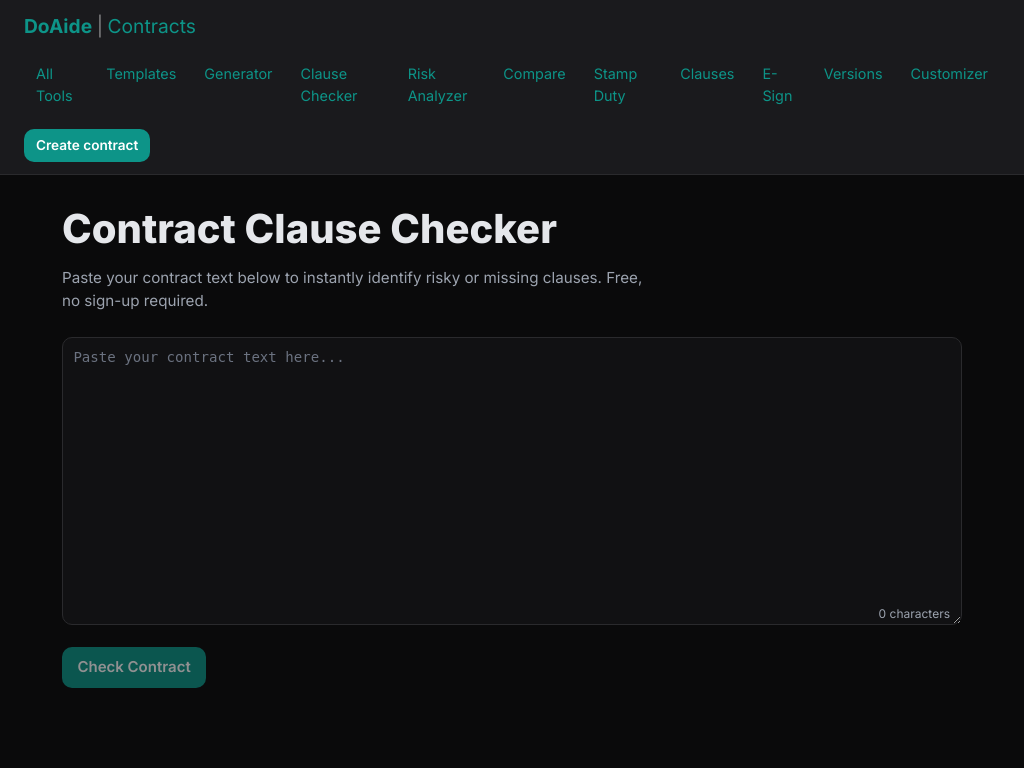
Test: CheckerPage › shows character count
The width and height of the screenshot is (1024, 768).
Type "Hello" into the text box named "Contract text to check" at [512, 481], box [62,337,962,625]
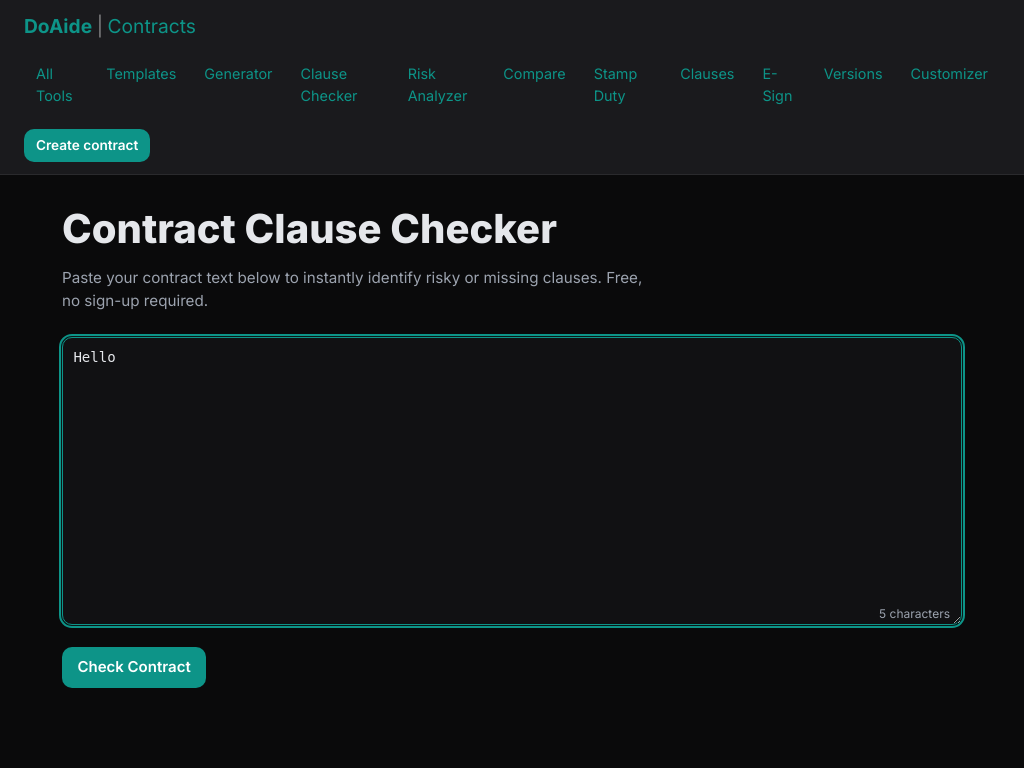
Expected: the text "5 characters" is shown, [879,605,950,623]
